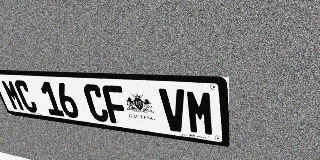1: (37, 81, 65, 117)
6: (53, 82, 81, 119)
C: (82, 84, 110, 123), (13, 80, 39, 113)
F: (101, 85, 130, 125)
M: (185, 89, 215, 137), (0, 79, 26, 112)
V: (159, 88, 188, 133)
